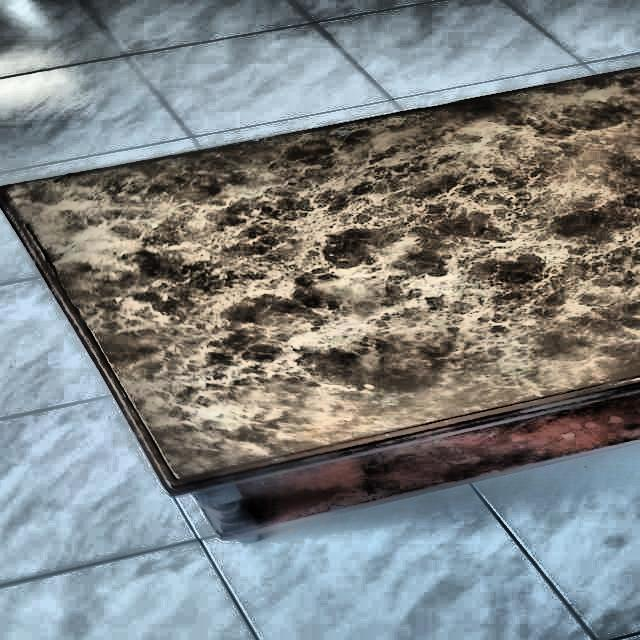mesa: (0, 57, 640, 546)
